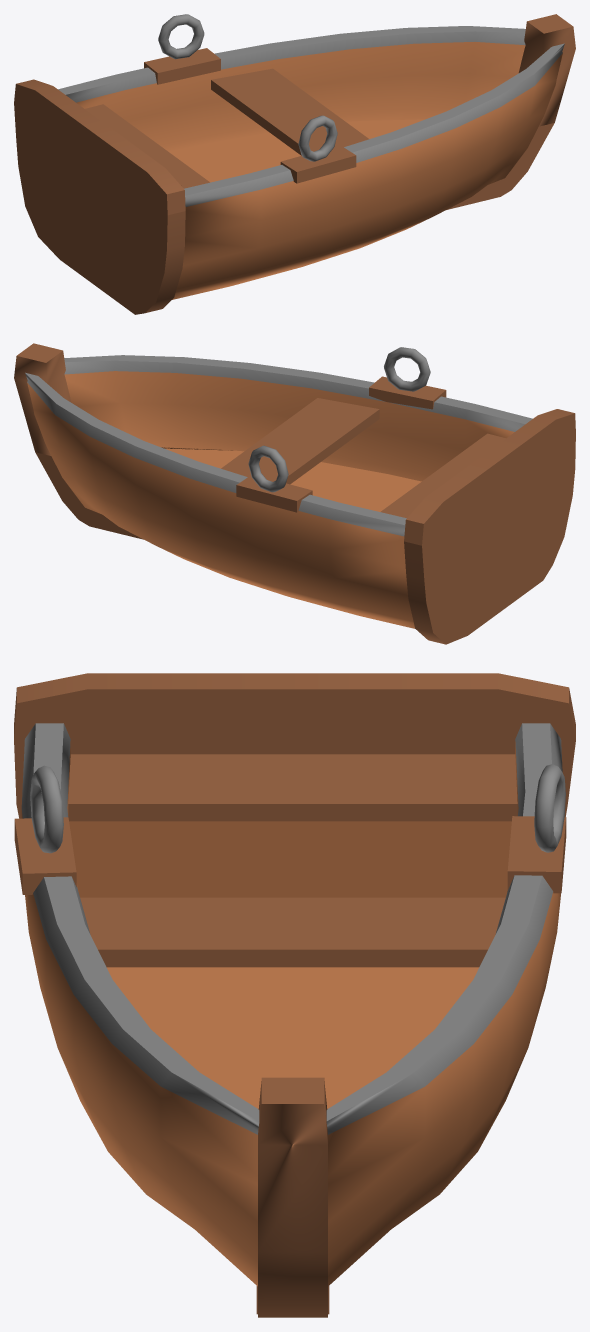
The model's file is Small_Boat.glb.
3 views of the same model, one above another, from view 1: azimuth 30°, elevation 25°; view 2: azimuth 150°, elevation 25°; view 3: azimuth 270°, elevation 25° (orthographic). The views are drawn at different scales.
Parts seen in each view (by area): view 1: Small_Boat; view 2: Small_Boat; view 3: Small_Boat.
Boxes of the visible parts, <box> form: Small_Boat: <box>14,14,575,314</box>; Small_Boat: <box>14,343,575,644</box>; Small_Boat: <box>14,673,575,1317</box>.
Size of the model in its own units: 8.6 by 3.14 by 4.82.
